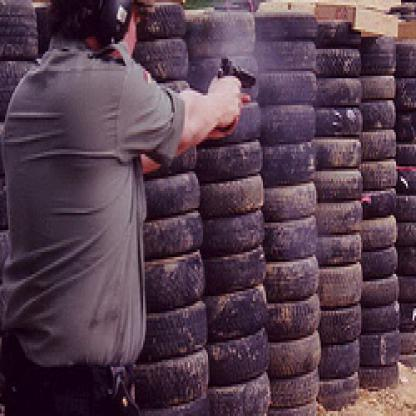gun: (208, 44, 261, 103)
